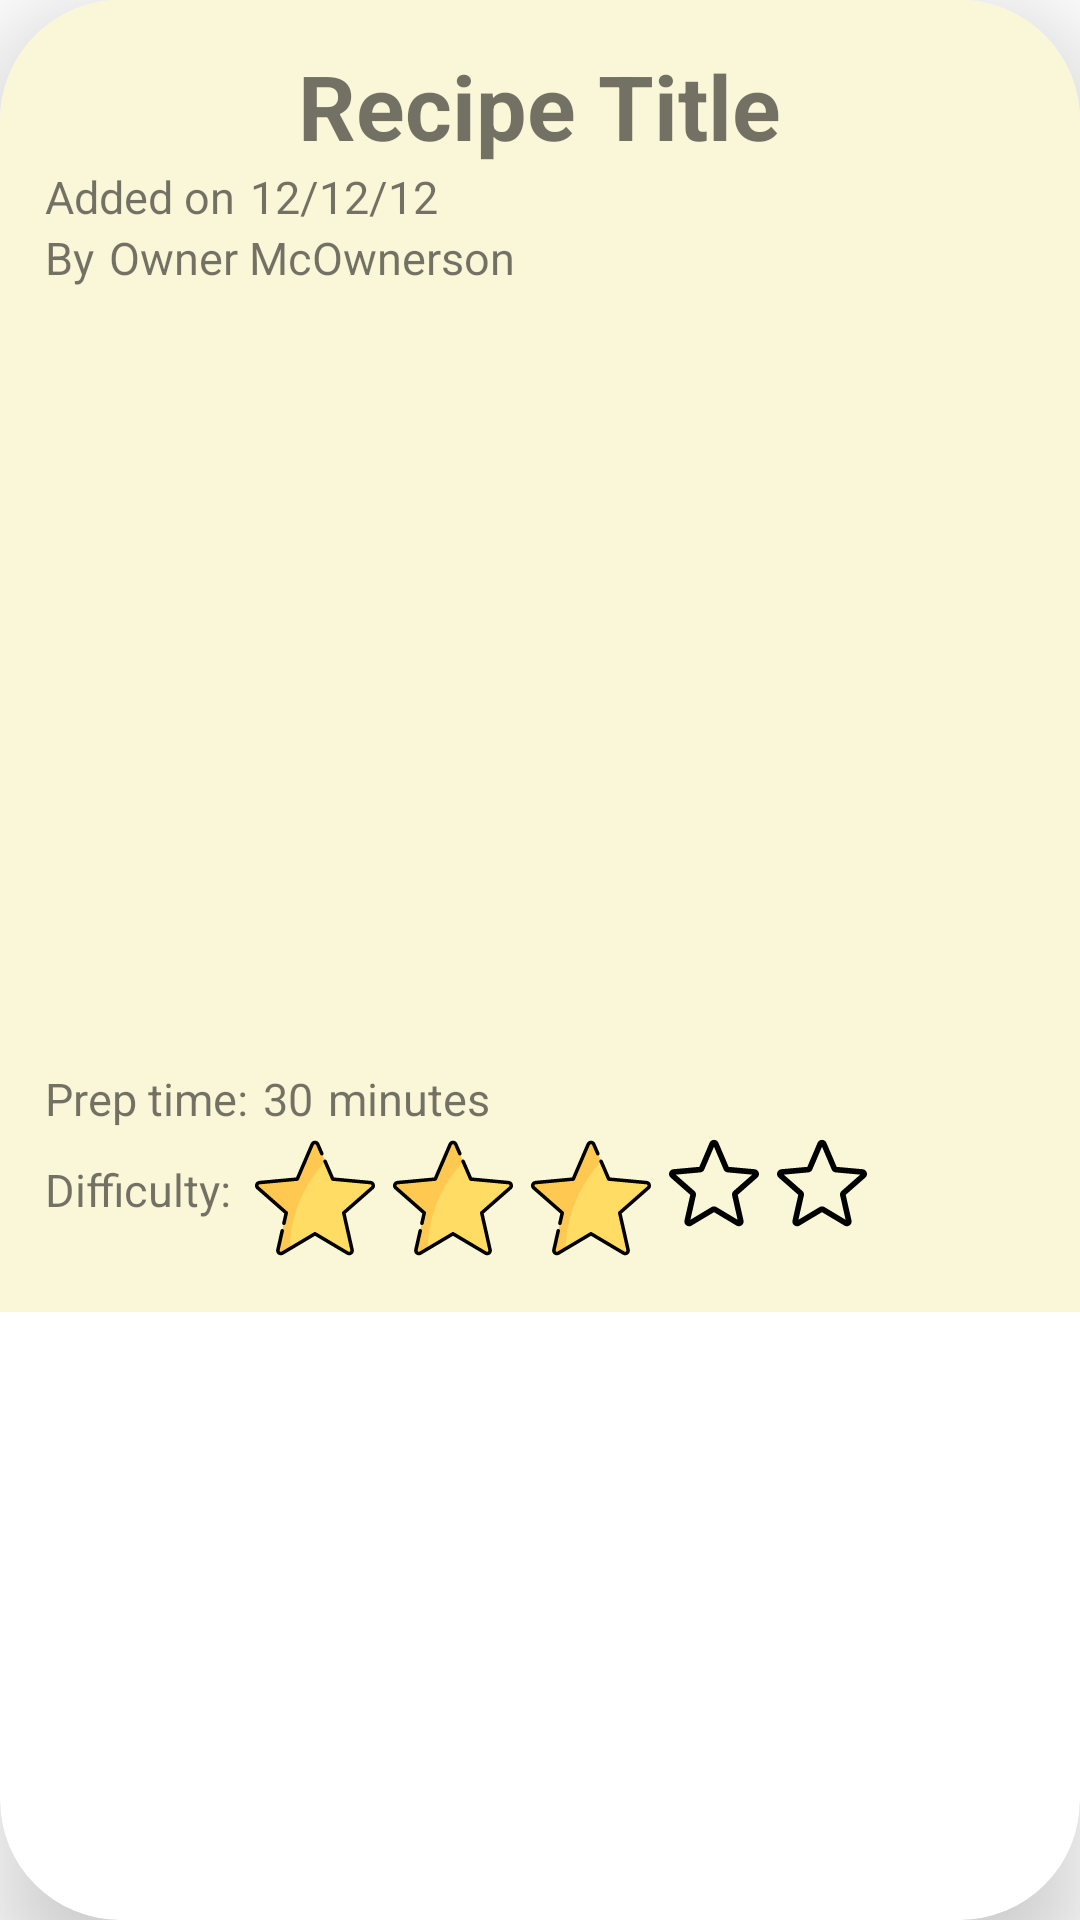

Where icons sit on this 1080px x 1920px app screen, as [x1=x1, y1=y1, x2=x2, y2=y2]:
empty star: [x1=669, y1=1140, x2=759, y2=1227], [x1=777, y1=1140, x2=867, y2=1227]
full star: [x1=255, y1=1140, x2=375, y2=1256], [x1=393, y1=1140, x2=513, y2=1256], [x1=531, y1=1140, x2=651, y2=1256]
